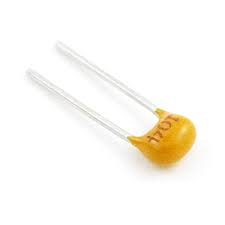ceramic capacitor: (76, 55, 221, 200)
